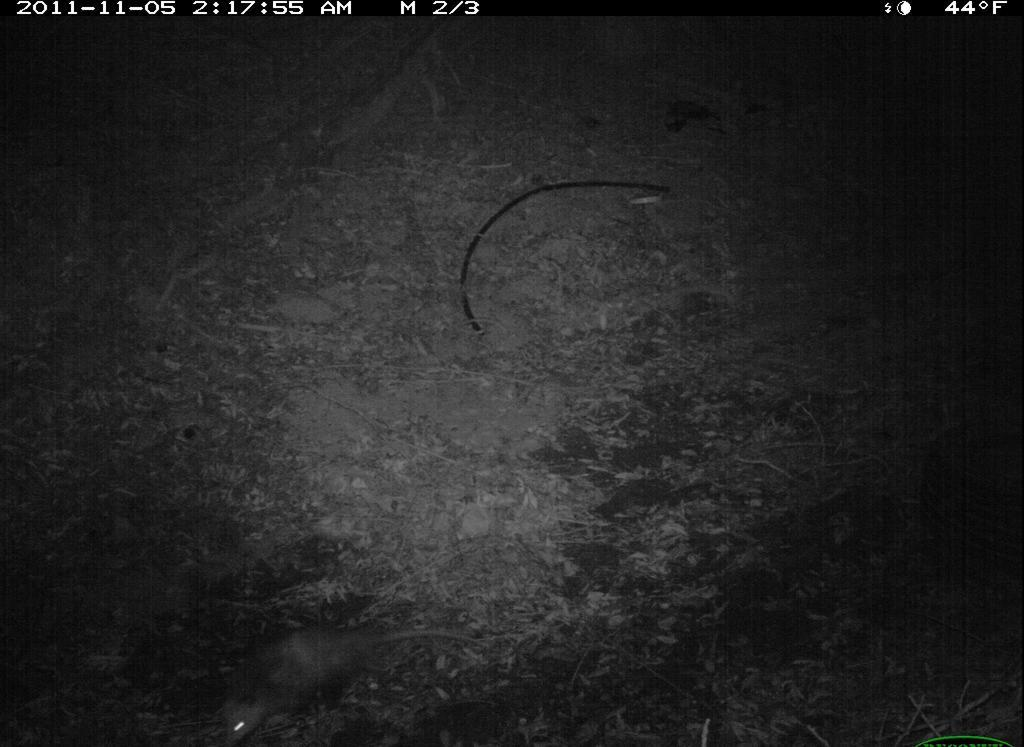opossum: (208, 616, 501, 747)
